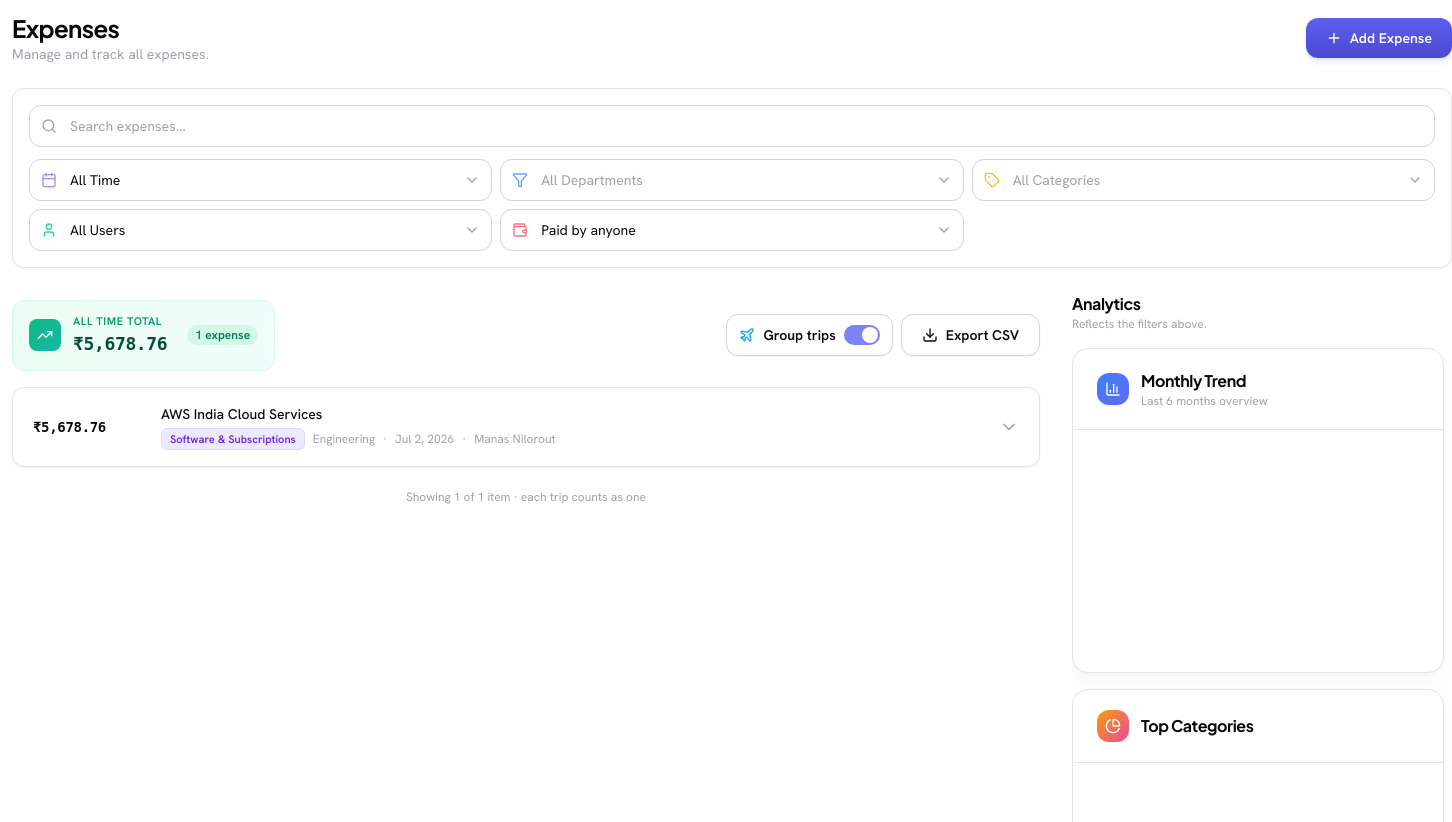
Test: ExpensesPage › filters by payer and shows that person's own share
This screenshot has width=1452, height=822.
Select "Paid by Manas Nilorout" in the dropdown named "filter by payer" at [732, 230], box 500,209 -> 964,251
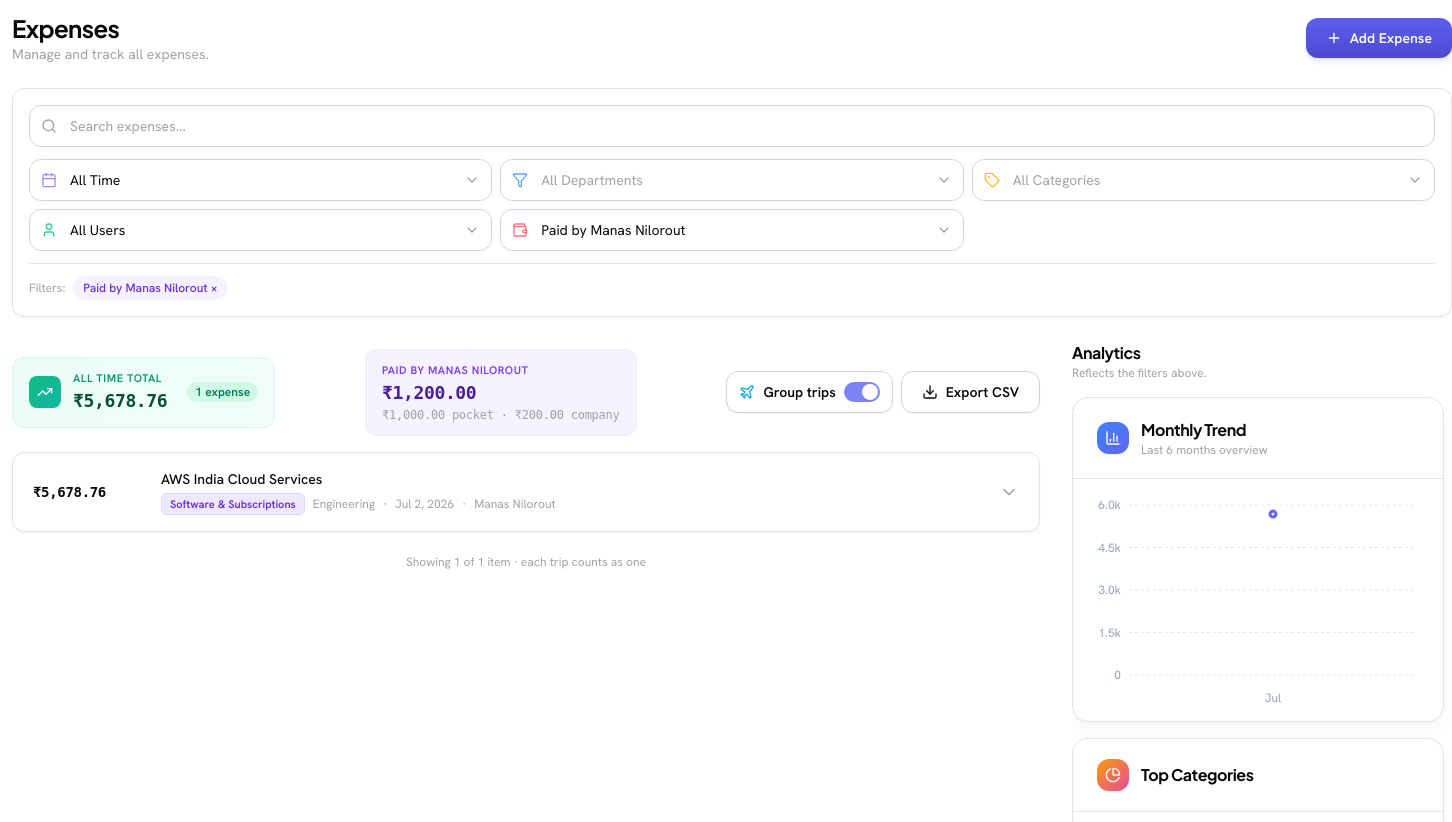
Expected: the text "₹1,200.00" is shown, 382,382 -> 476,402
Expected: the text "₹1,000.00 pocket · ₹200.00 company" is shown, 382,406 -> 620,422
